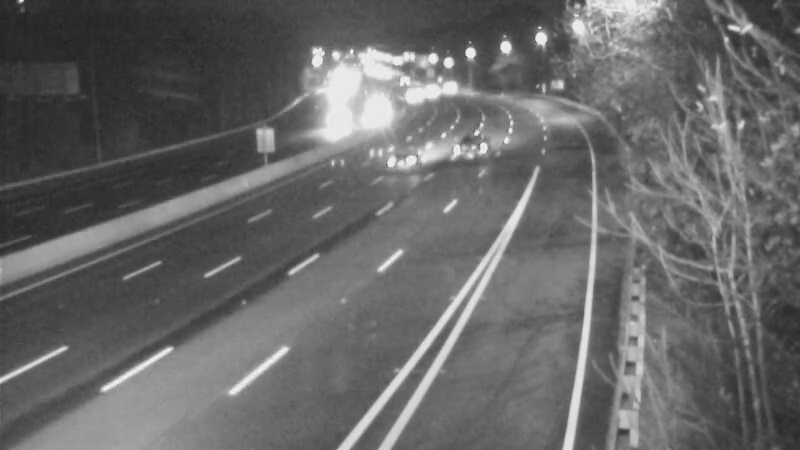vehicle: (389, 69, 439, 119), (442, 110, 492, 160), (384, 121, 434, 171), (314, 92, 364, 142), (342, 87, 392, 137)
